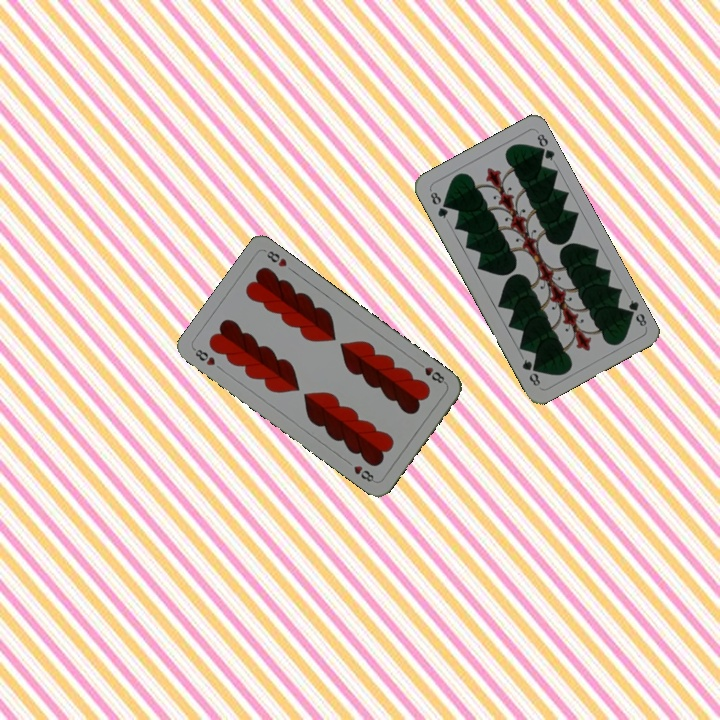G8: (621, 296, 649, 329), (426, 188, 451, 221)
H8: (413, 358, 449, 387), (190, 344, 218, 368)
